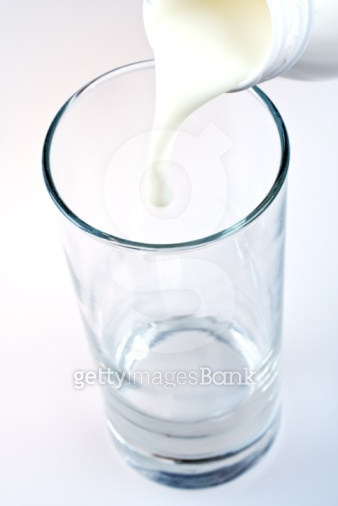glass of water: (47, 53, 296, 495)
